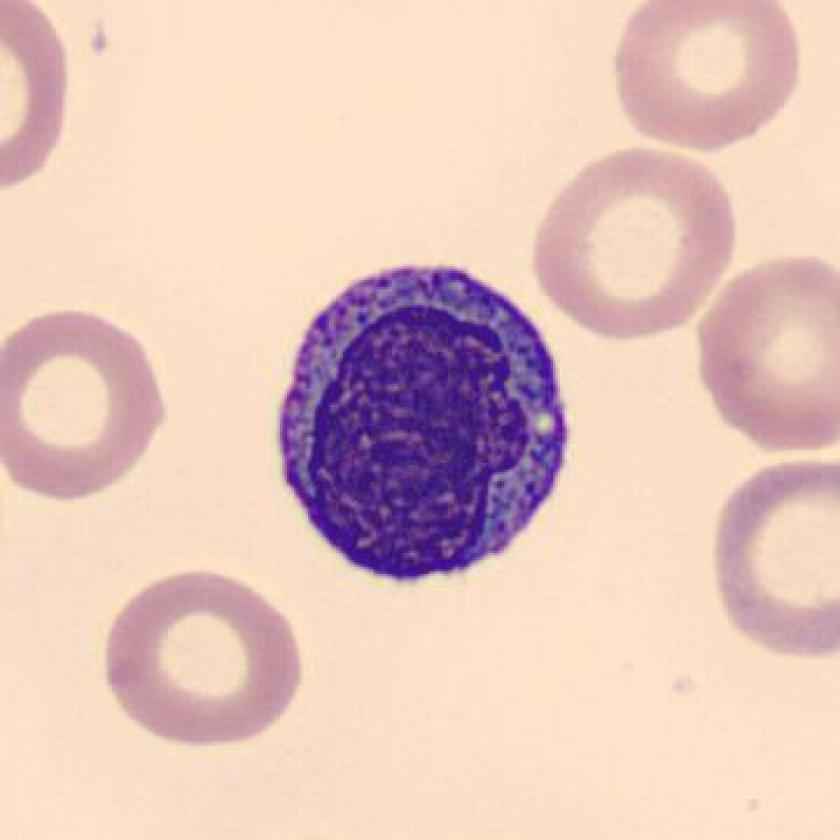lymphocyte: (267, 251, 589, 598)
